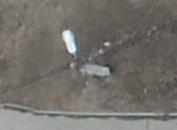opora: (61, 28, 110, 77)
